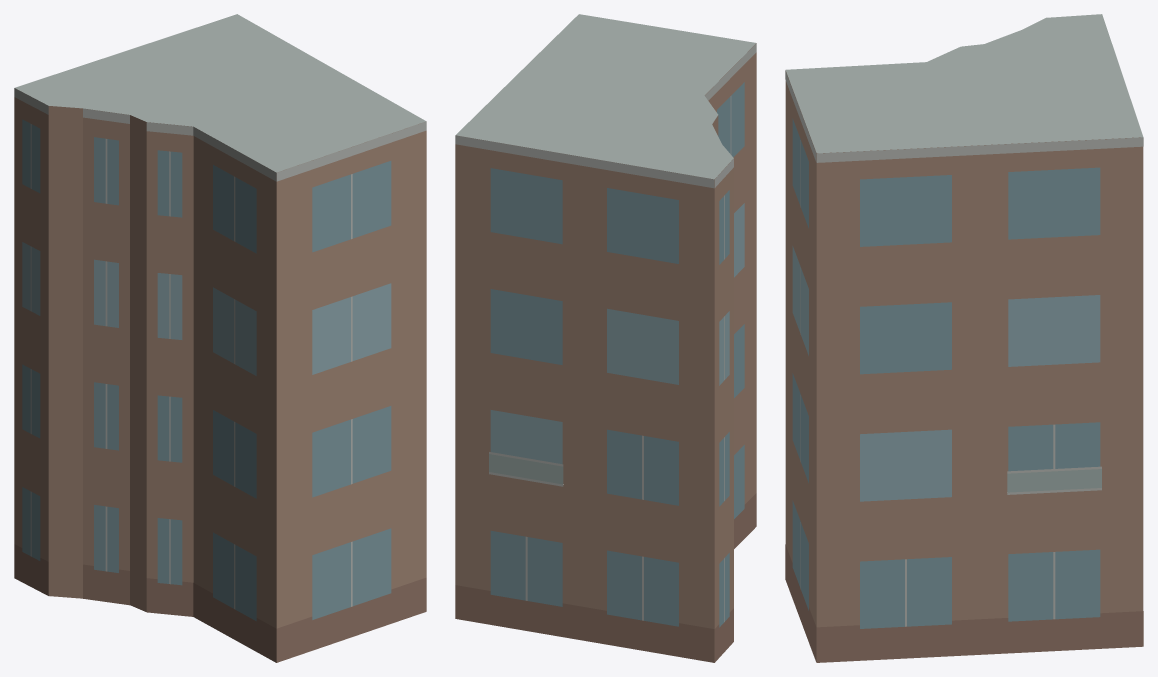
File: survey-upis-32458449.glb
3 views of the same model, side by side, from view 1: azimuth 30°, elevation 25°; view 2: azimuth 150°, elevation 25°; view 3: azimuth 270°, elevation 25° (orthographic). The views are drawn at different scales.
Parts seen in each view (by area): view 1: survey-upis-32458449.tmp; view 2: survey-upis-32458449.tmp; view 3: survey-upis-32458449.tmp.
Part boxes in pixels (bbox=[...]): survey-upis-32458449.tmp: bbox=[14, 14, 426, 662]; survey-upis-32458449.tmp: bbox=[455, 14, 756, 662]; survey-upis-32458449.tmp: bbox=[785, 14, 1143, 662].
Size of the model in its own units: 7.7 by 13.1 by 8.36.
